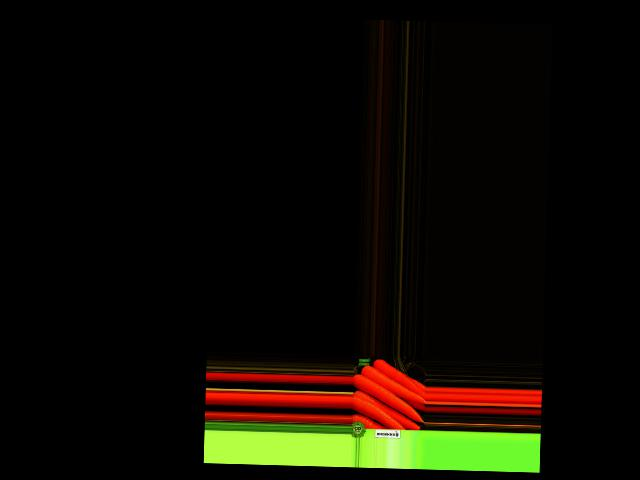carrot: (352, 389, 422, 432)
